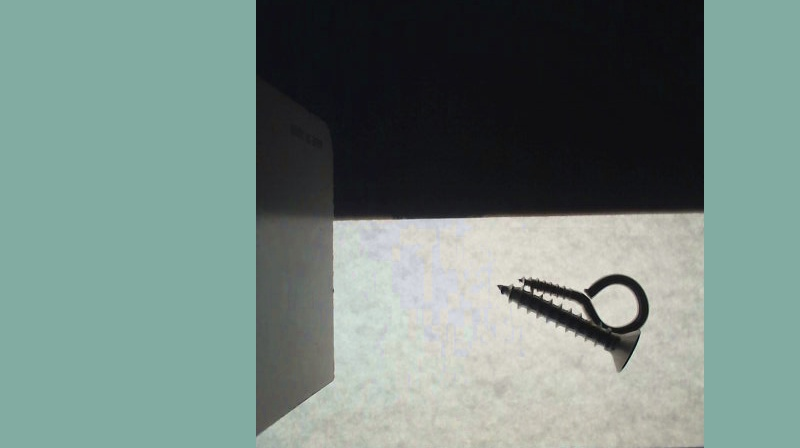O001: (516, 272, 650, 334)
S001: (496, 281, 642, 371)
